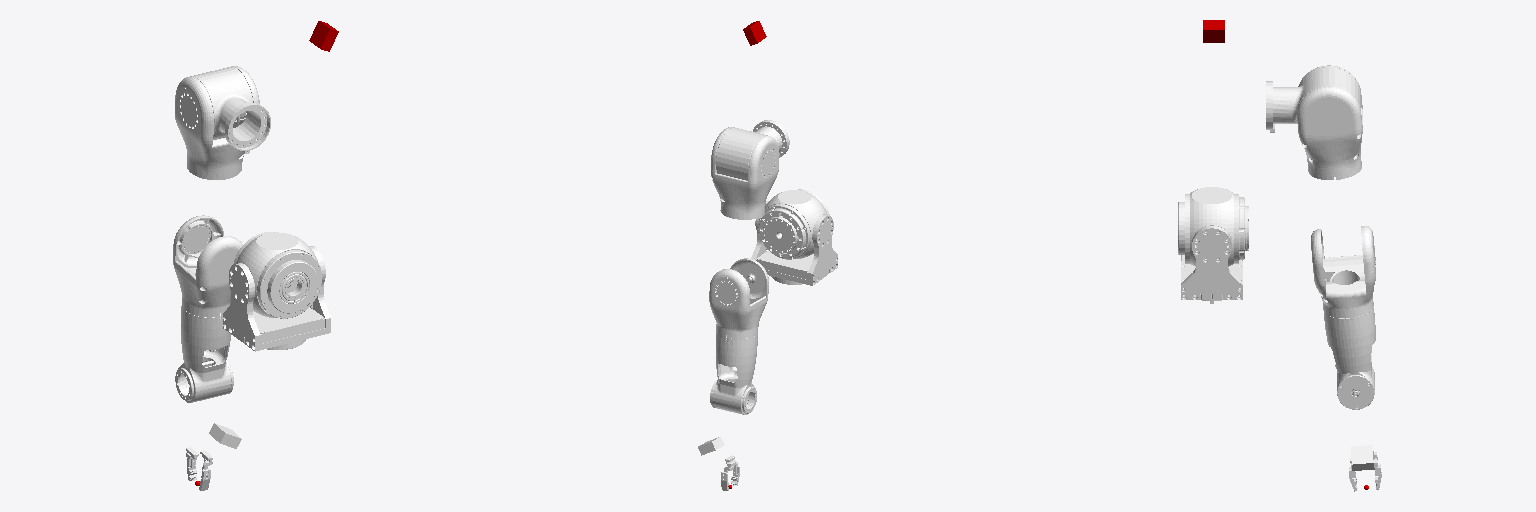
URDF robot description (RJ2506):
<?xml version="1.0" encoding="utf-8"?>
<!-- This URDF was automatically created by SolidWorks to URDF Exporter! Originally created by Stephen Brawner (brawner@gmail.com) 
     Commit Version: 1.6.0-4-g7f85cfe  Build Version: 1.6.7995.38578
     For more information, please see http://wiki.ros.org/sw_urdf_exporter -->
<robot
  name="RJ2506">
  <link
    name="base_link">
    <inertial>
      <origin
        xyz="0.00869926146691317 0.00499983083483457 0.216987276743484"
        rpy="0 0 0" />
      <mass
        value="26.7519139746162" />
      <inertia
        ixx="0.38758653505516"
        ixy="0.00116618343106311"
        ixz="0.00112683461180677"
        iyy="0.347238571580365"
        iyz="-9.4413672342627E-05"
        izz="0.647845030034638" />
    </inertial>
    <visual>
      <origin
        xyz="0 0 0"
        rpy="0 0 0" />
      <geometry>
        <mesh
          filename="package://RJ2506/meshes/base_link.STL" />
      </geometry>
      <material
        name="">
        <color
          rgba="1 1 1 1" />
      </material>
    </visual>
    <collision>
      <origin
        xyz="0 0 0"
        rpy="0 0 0" />
      <geometry>
        <mesh
          filename="package://RJ2506/meshes/base_link.STL" />
      </geometry>
    </collision>
  </link>
  <link
    name="body_link1">
    <inertial>
      <origin
        xyz="-4.31295084630245E-05 -0.00421101313190597 0.0453219931156109"
        rpy="0 0 0" />
      <mass
        value="1.2329725334999" />
      <inertia
        ixx="0.00228390890774754"
        ixy="2.98917211897125E-07"
        ixz="-1.47108179038847E-06"
        iyy="0.00334162854579429"
        iyz="-4.78109345528899E-07"
        izz="0.00233416767802444" />
    </inertial>
    <visual>
      <origin
        xyz="0 0 0"
        rpy="0 0 0" />
      <geometry>
        <mesh
          filename="package://RJ2506/meshes/body_link1.STL" />
      </geometry>
      <material
        name="">
        <color
          rgba="1 1 1 1" />
      </material>
    </visual>
    <collision>
      <origin
        xyz="0 0 0"
        rpy="0 0 0" />
      <geometry>
        <mesh
          filename="package://RJ2506/meshes/body_link1.STL" />
      </geometry>
    </collision>
  </link>
  <joint
    name="body_joint1"
    type="revolute">
    <origin
      xyz="-0.0028417 0 0.8295"
      rpy="0 0 0" />
    <parent
      link="base_link" />
    <child
      link="body_link1" />
    <axis
      xyz="0 0 -1" />
    <limit
      lower="-1.57"
      upper="1.57"
      effort="0"
      velocity="0" />
  </joint>
  <link
    name="body_link2">
    <inertial>
      <origin
        xyz="0.000958653082196413 0.201270903257914 -0.0432950403578418"
        rpy="0 0 0" />
      <mass
        value="3.1157546443953" />
      <inertia
        ixx="0.0135579454108103"
        ixy="0.000115314171114847"
        ixz="3.75467578844669E-08"
        iyy="0.00708202087654693"
        iyz="1.01051941171378E-06"
        izz="0.013377043683685" />
    </inertial>
    <visual>
      <origin
        xyz="0 0 0"
        rpy="0 0 0" />
      <geometry>
        <mesh
          filename="package://RJ2506/meshes/body_link2.STL" />
      </geometry>
      <material
        name="">
        <color
          rgba="1 1 1 1" />
      </material>
    </visual>
    <collision>
      <origin
        xyz="0 0 0"
        rpy="0 0 0" />
      <geometry>
        <mesh
          filename="package://RJ2506/meshes/body_link2.STL" />
      </geometry>
    </collision>
  </link>
  <joint
    name="body_joint2"
    type="revolute">
    <origin
      xyz="0 -0.0455 0.08"
      rpy="1.5708 0 0" />
    <parent
      link="body_link1" />
    <child
      link="body_link2" />
    <axis
      xyz="0 0 -1" />
    <limit
      lower="0"
      upper="0.75"
      effort="0"
      velocity="0" />
  </joint>
  <!--link
    name="cam_head">
    <inertial>
      <origin
        xyz="-0.0269571328675796 0 -0.000995884553184001"
        rpy="0 0 0" />
      <mass
        value="0.0746933693755749" />
      <inertia
        ixx="1.95480229758086E-05"
        ixy="3.23843821806692E-21"
        ixz="-1.44313609304179E-12"
        iyy="1.74035104077852E-05"
        iyz="-8.90061090437218E-22"
        izz="1.75029737089945E-05" />
    </inertial>
    <visual>
      <origin
        xyz="0 0 0"
        rpy="0 0 0" />
      <geometry>
        <mesh
          filename="package://RJ2506/meshes/cam_head.STL" />
      </geometry>
      <material
        name="">
        <color
          rgba="1 1 1 1" />
      </material>
    </visual>
    <collision>
      <origin
        xyz="0 0 0"
        rpy="0 0 0" />
      <geometry>
        <mesh
          filename="package://RJ2506/meshes/cam_head.STL" />
      </geometry>
    </collision>
  </link>
  <joint
    name="head_cam_joint"
    type="fixed">
    <origin
      xyz="0.098123 0.42481 -0.0455"
      rpy="-1.5708 0 -0.83416" />
    <parent
      link="body_link2" />
    <child
      link="cam_head" />
    <axis
      xyz="0 0 0" />
  </joint-->

  <joint name="head_camera_base_joint" type="fixed">
      <!-- <origin rpy="0 0 0" xyz="0 0.5 0.2"/> -->
      <!-- <origin xyz="0 0.4 0.2" rpy="0 2.1 1.5707963267948966"/> -->
      <origin xyz="0.1 0.45 -0.05" rpy="-1.5707963267948966 0 -0.5"/>
      <parent link="body_link2"/>
      <child link="head_camera_base_link"/>
   </joint>
   <!-- <joint type="fixed" name="webcam_joint_world">
      <parent link="world"/>
      <child link="camera_base_link"/>
      <origin xyz="0 -0.3 1.5" rpy="0 0.785 1.5707963267948966"/>
   </joint> -->
   <link name="head_camera_base_link"/>
   <joint name="head_camera_joint" type="fixed">
      <!-- <origin rpy="0 1.0707963267948966 0" xyz="0 0 0"/> -->
      <origin rpy="0 0 0" xyz="0 0 0"/>
      <!-- <origin rpy="0 0 0" xyz="0 0 0"/> -->
      <parent link="head_camera_base_link"/>
      <child link="cam_head"/>
   </joint>
   <link name="cam_head">
      <visual>
         <geometry>
            <box size="0.0215 0.041 0.041"/>
         </geometry>
         <material name="aluminum">
            <color rgba="0.8 0.0 0.0 1.0"/>
         </material>
      </visual>
      <collision>
         <geometry>
            <box size="0.041 0.041 0.041"/>
         </geometry>
      </collision>
      <inertial>
         <mass value="0.564"/>
         <inertia ixx="0.003881243" ixy="0.0" ixz="0.0" iyy="0.000498940" iyz="0.0" izz="0.003879257"/>
      </inertial>
   </link>
  <link
    name="left_arm_link0">
    <inertial>
      <origin
        xyz="0.0882711459374961 -0.000362302850967944 -0.00294472984422307"
        rpy="0 0 0" />
      <mass
        value="0.238001140524293" />
      <inertia
        ixx="0.000424938539691083"
        ixy="2.48906792021067E-08"
        ixz="5.57253420622779E-05"
        iyy="0.000704505764655377"
        iyz="3.0927037329785E-08"
        izz="0.000861651567587452" />
    </inertial>
    <visual>
      <origin
        xyz="0 0 0"
        rpy="0 0 0" />
      <geometry>
        <mesh
          filename="package://RJ2506/meshes/left_arm_link0.STL" />
      </geometry>
      <material
        name="">
        <color
          rgba="1 1 1 1" />
      </material>
    </visual>
    <collision>
      <origin
        xyz="0 0 0"
        rpy="0 0 0" />
      <geometry>
        <mesh
          filename="package://RJ2506/meshes/left_arm_link0.STL" />
      </geometry>
    </collision>
  </link>
  <joint
    name="left_arm_joint0"
    type="revolute">
    <origin
      xyz="0 0.2525 -0.155"
      rpy="0 1.5708 0" />
    <parent
      link="body_link2" />
    <child
      link="left_arm_link0" />
    <axis
      xyz="-1 0 0" />
    <limit
      lower="-3.14"
      upper="3.14"
      effort="0"
      velocity="0" />
  </joint>
  <link
    name="left_arm_link1">
    <inertial>
      <origin
        xyz="-0.0479372885458475 -0.0255990315987933 0.00321022550757699"
        rpy="0 0 0" />
      <mass
        value="0.891893424900436" />
      <inertia
        ixx="0.00161545702563551"
        ixy="-7.69856406328665E-05"
        ixz="5.15085952795877E-06"
        iyy="0.00121657663419294"
        iyz="-6.30944159758864E-06"
        izz="0.00129387995939797" />
    </inertial>
    <visual>
      <origin
        xyz="0 0 0"
        rpy="0 0 0" />
      <geometry>
        <mesh
          filename="package://RJ2506/meshes/left_arm_link1.STL" />
      </geometry>
      <material
        name="">
        <color
          rgba="1 1 1 1" />
      </material>
    </visual>
    <collision>
      <origin
        xyz="0 0 0"
        rpy="0 0 0" />
      <geometry>
        <mesh
          filename="package://RJ2506/meshes/left_arm_link1.STL" />
      </geometry>
    </collision>
  </link>
  <joint
    name="left_arm_joint1"
    type="revolute">
    <origin
      xyz="0.108 0 -0.0525"
      rpy="0 1.5708 0" />
    <parent
      link="left_arm_link0" />
    <child
      link="left_arm_link1" />
    <axis
      xyz="-1 0 0" />
    <limit
      lower="0"
      upper="3.14"
      effort="0"
      velocity="0" />
  </joint>
  <link
    name="left_arm_link2">
    <inertial>
      <origin
        xyz="0.107184008785762 0.0040022702979654 -2.60088598416641E-06"
        rpy="0 0 0" />
      <mass
        value="0.824773571458771" />
      <inertia
        ixx="0.000826589534514665"
        ixy="-6.36410087070467E-05"
        ixz="8.968493540449E-07"
        iyy="0.00151814031423236"
        iyz="4.39286686177732E-08"
        izz="0.00146453441013561" />
    </inertial>
    <visual>
      <origin
        xyz="0 0 0"
        rpy="0 0 0" />
      <geometry>
        <mesh
          filename="package://RJ2506/meshes/left_arm_link2.STL" />
      </geometry>
      <material
        name="">
        <color
          rgba="1 1 1 1" />
      </material>
    </visual>
    <collision>
      <origin
        xyz="0 0 0"
        rpy="0 0 0" />
      <geometry>
        <mesh
          filename="package://RJ2506/meshes/left_arm_link2.STL" />
      </geometry>
    </collision>
  </link>
  <joint
    name="left_arm_joint2"
    type="revolute">
    <origin
      xyz="-0.053911 -0.12996 0.011921"
      rpy="1.5767 -0.087266 -1.5713" />
    <parent
      link="left_arm_link1" />
    <child
      link="left_arm_link2" />
    <axis
      xyz="1 0 0" />
    <limit
      lower="-3.14"
      upper="3.14"
      effort="0"
      velocity="0" />
  </joint>
  <link
    name="left_arm_link3">
    <inertial>
      <origin
        xyz="0.0473618581774886 -0.0479647252689564 0.00359619407468853"
        rpy="0 0 0" />
      <mass
        value="0.309934047430043" />
      <inertia
        ixx="0.000644628581739132"
        ixy="4.52871938070662E-05"
        ixz="6.07478036250766E-06"
        iyy="0.000391514989697136"
        iyz="-6.13423775177317E-06"
        izz="0.000481429600142672" />
    </inertial>
    <visual>
      <origin
        xyz="0 0 0"
        rpy="0 0 0" />
      <geometry>
        <mesh
          filename="package://RJ2506/meshes/left_arm_link3.STL" />
      </geometry>
      <material
        name="">
        <color
          rgba="1 1 1 1" />
      </material>
    </visual>
    <collision>
      <origin
        xyz="0 0 0"
        rpy="0 0 0" />
      <geometry>
        <mesh
          filename="package://RJ2506/meshes/left_arm_link3.STL" />
      </geometry>
    </collision>
  </link>
  <joint
    name="left_arm_joint3"
    type="revolute">
    <origin
      xyz="0.175 0.04945 -0.00028886"
      rpy="3.1411 -0.0058414 -1.5708" />
    <parent
      link="left_arm_link2" />
    <child
      link="left_arm_link3" />
    <axis
      xyz="1 0 0" />
    <limit
      lower="0"
      upper="1.57"
      effort="0"
      velocity="0" />
  </joint>
  <link
    name="left_arm_link4">
    <inertial>
      <origin
        xyz="0.0589278070413209 9.25924841574943E-05 -0.000134846182588293"
        rpy="0 0 0" />
      <mass
        value="0.481340222963776" />
      <inertia
        ixx="0.000464225178501514"
        ixy="2.25015402936988E-07"
        ixz="4.27843087468458E-05"
        iyy="0.000862590377554964"
        iyz="6.85499501295857E-08"
        izz="0.000850619186439978" />
    </inertial>
    <visual>
      <origin
        xyz="0 0 0"
        rpy="0 0 0" />
      <geometry>
        <mesh
          filename="package://RJ2506/meshes/left_arm_link4.STL" />
      </geometry>
      <material
        name="">
        <color
          rgba="1 1 1 1" />
      </material>
    </visual>
    <collision>
      <origin
        xyz="0 0 0"
        rpy="0 0 0" />
      <geometry>
        <mesh
          filename="package://RJ2506/meshes/left_arm_link4.STL" />
      </geometry>
    </collision>
  </link>
  <joint
    name="left_arm_joint4"
    type="revolute">
    <origin
      xyz="0.050131 -0.1105 -0.00013589"
      rpy="3.1416 0 -1.5708" />
    <parent
      link="left_arm_link3" />
    <child
      link="left_arm_link4" />
    <axis
      xyz="1 0 0" />
    <limit
      lower="-3.14"
      upper="3.14"
      effort="0"
      velocity="0" />
  </joint>
  <link
    name="left_hand_base">
    <inertial>
      <origin
        xyz="0.0490104745154481 -0.000222931856034503 0.057095451975437"
        rpy="0 0 0" />
      <mass
        value="0.425977846728743" />
      <inertia
        ixx="0.000196167542911642"
        ixy="-1.08827996223091E-07"
        ixz="2.5918140025208E-08"
        iyy="0.000192354967475662"
        iyz="-2.21891311843373E-07"
        izz="0.000194835525376335" />
    </inertial>
    <visual>
      <origin
        xyz="0 0 0"
        rpy="0 0 0" />
      <geometry>
        <mesh
          filename="package://RJ2506/meshes/left_hand_base.STL" />
      </geometry>
      <material
        name="">
        <color
          rgba="1 1 1 1" />
      </material>
    </visual>
    <collision>
      <origin
        xyz="0 0 0"
        rpy="0 0 0" />
      <geometry>
        <mesh
          filename="package://RJ2506/meshes/left_hand_base.STL" />
      </geometry>
    </collision>
  </link>
  <joint
    name="left_arm_joint5"
    type="revolute">
    <origin
      xyz="0.155 0.0013007 0.045864"
      rpy="0 1.5708 0" />
    <parent
      link="left_arm_link4" />
    <child
      link="left_hand_base" />
    <axis
      xyz="1 0 0" />
    <limit
      lower="-3.14"
      upper="3.14"
      effort="0"
      velocity="0" />
  </joint>
  <!-- Define the hand_tcp frame -->
  <link name="left_hand_tcp">
    <visual>
        <geometry>
          <sphere radius="0.005"/>
        </geometry>
        <material name="red">
          <color rgba="1 0 0 1"/>
        </material>
    </visual>
  </link>
  <joint name="left_hand_tcp_joint" type="fixed">
    <origin rpy="0 0 0" xyz="0.047 0 0.215"/>
    <parent link="left_hand_base"/>
    <child link="left_hand_tcp"/>
  </joint>
  <link
    name="left_hand_finger1">
    <inertial>
      <origin
        xyz="0.0495060496321965 0.0197399835686078 0.180370756431535"
        rpy="0 0 0" />
      <mass
        value="0.0086569874075513" />
      <inertia
        ixx="1.10420099973295E-06"
        ixy="1.78479008444909E-08"
        ixz="5.96643317325932E-08"
        iyy="1.03663597894263E-06"
        iyz="9.54866713752479E-08"
        izz="3.74482952935254E-07" />
    </inertial>
    <visual>
      <origin
        xyz="0 0 0"
        rpy="0 0 0" />
      <geometry>
        <mesh
          filename="package://RJ2506/meshes/left_hand_finger1.STL" />
      </geometry>
      <material
        name="">
        <color
          rgba="1 1 1 1" />
      </material>
    </visual>
    <collision>
      <origin
        xyz="0 0 0"
        rpy="0 0 0" />
      <geometry>
        <mesh
          filename="package://RJ2506/meshes/left_hand_finger1.STL" />
      </geometry>
    </collision>
  </link>
  <joint
    name="left_hand_finger1_joint"
    type="prismatic">
    <origin
      xyz="0 0 0"
      rpy="0 0 0" />
    <parent
      link="left_hand_base" />
    <child
      link="left_hand_finger1" />
    <axis
      xyz="0 -1 0" />
    <limit
      lower="0"
      upper="0.025"
      effort="0"
      velocity="0" />
  </joint>
  <link
    name="left_hand_finger2">
    <inertial>
      <origin
        xyz="0.0434939503377452 -0.0197407586191738 0.180370756229866"
        rpy="0 0 0" />
      <mass
        value="0.00865698738066051" />
      <inertia
        ixx="1.10420099707155E-06"
        ixy="1.78479004188489E-08"
        ixz="-5.9664332003823E-08"
        iyy="1.0366359771396E-06"
        iyz="-9.54866703354799E-08"
        izz="3.74482950590246E-07" />
    </inertial>
    <visual>
      <origin
        xyz="0 0 0"
        rpy="0 0 0" />
      <geometry>
        <mesh
          filename="package://RJ2506/meshes/left_hand_finger2.STL" />
      </geometry>
      <material
        name="">
        <color
          rgba="1 1 1 1" />
      </material>
    </visual>
    <collision>
      <origin
        xyz="0 0 0"
        rpy="0 0 0" />
      <geometry>
        <mesh
          filename="package://RJ2506/meshes/left_hand_finger2.STL" />
      </geometry>
    </collision>
  </link>
  <joint
    name="left_hand_finger2_joint"
    type="prismatic">
    <origin
      xyz="0 0 0"
      rpy="0 0 0" />
    <parent
      link="left_hand_base" />
    <child
      link="left_hand_finger2" />
    <axis
      xyz="0 1 0" />
    <limit
      lower="0"
      upper="0.025"
      effort="0"
      velocity="0" />
  </joint>
  <link
    name="left_hand_front_cam">
    <inertial>
      <origin
        xyz="-0.0239311652691113 -0.00851339259041423 0"
        rpy="0 0 0" />
      <mass
        value="0.0958667621444379" />
      <inertia
        ixx="2.42383827887961E-05"
        ixy="-1.00382415725035E-06"
        ixz="-3.91752738105114E-21"
        iyy="2.74825146334872E-05"
        iyz="-4.2351647362715E-21"
        izz="2.3346676346651E-05" />
    </inertial>
    <visual>
      <origin
        xyz="0 0 0"
        rpy="0 0 0" />
      <geometry>
        <box size="0.0215 0.041 0.041"/>
      </geometry>
      <material name="aluminum">
        <color rgba="0.8 0.0 0.0 1.0"/>
      </material>
      <!-- <geometry>
        <mesh
          filename="package://RJ2506/meshes/left_hand_front_cam.STL" />
      </geometry> -->
      <material
        name="">
        <color
          rgba="1 1 1 1" />
      </material>
    </visual>
    <collision>
      <origin
        xyz="0 0 0"
        rpy="0 0 0" />
      <geometry>
        <box size="0.0215 0.041 0.041"/>
      </geometry>
      <material name="aluminum">
        <color rgba="0.8 0.0 0.0 1.0"/>
      </material>
      <!-- <geometry>
        <mesh
          filename="package://RJ2506/meshes/left_hand_front_cam.STL" />
      </geometry> -->
    </collision>
  </link>
  <joint
    name="left_hand_front_cam_joint"
    type="fixed">
    <origin
      xyz="-0.00590000000000057 0 0.129655988461576"
      rpy="0 -1.04719755119659 0" />
    <!-- <origin
      xyz="-0.00590000000000057 0 0.129655988461576"
      rpy="1.57079632679138 -1.04719755119659 0" /> -->
    <parent
      link="left_hand_base" />
    <child
      link="left_hand_front_cam" />
    <axis
      xyz="0 0 0" />
  </joint>
</robot>

--- What the picture shows (computed from the rendered views, not written in the file) ---
The picture shows the robot from 3 angles, left to right: view 1: azimuth 30°, elevation 25°; view 2: azimuth 150°, elevation 25°; view 3: azimuth 270°, elevation 25°; orthographic projection.
Robot: RJ2506 — 15 links, 14 joints (8 revolute, 2 prismatic, 4 fixed); root link base_link; default pose: all joints at 0.
Links seen in each view (by area): view 1: body_link1, left_arm_link3, left_arm_link1, left_arm_link4, left_arm_link0, cam_head; view 2: body_link1, left_arm_link3, left_arm_link1, left_arm_link4, left_arm_link0; view 3: body_link1, left_arm_link1, left_arm_link3, left_arm_link4, left_arm_link0, left_hand_front_cam.
Link boxes in pixels (x1,y1,x2,y2): body_link1: (223, 232, 330, 351); left_arm_link3: (173, 215, 242, 317); left_arm_link1: (175, 66, 259, 179); left_arm_link4: (175, 306, 233, 402); left_arm_link0: (190, 67, 270, 153); cam_head: (309, 21, 338, 51); body_link1: (751, 189, 837, 285); left_arm_link3: (709, 258, 768, 338); left_arm_link1: (711, 127, 779, 219); left_arm_link4: (710, 332, 757, 414); left_arm_link0: (716, 120, 789, 180); body_link1: (1178, 187, 1248, 303); left_arm_link1: (1297, 65, 1362, 179); left_arm_link3: (1311, 226, 1375, 318); left_arm_link4: (1323, 307, 1375, 409); left_arm_link0: (1266, 67, 1360, 132); left_hand_front_cam: (1351, 445, 1374, 470).
Size in the robot's own frame: 0.1988 by 0.3775 by 1.01 metres.
Meshes: 11 distinct files referenced, 7 mesh visuals loaded (7 binary STL); not drawn: 4 (reference not matched to a file when rendering).
